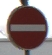No entry: (5, 5, 47, 50)
